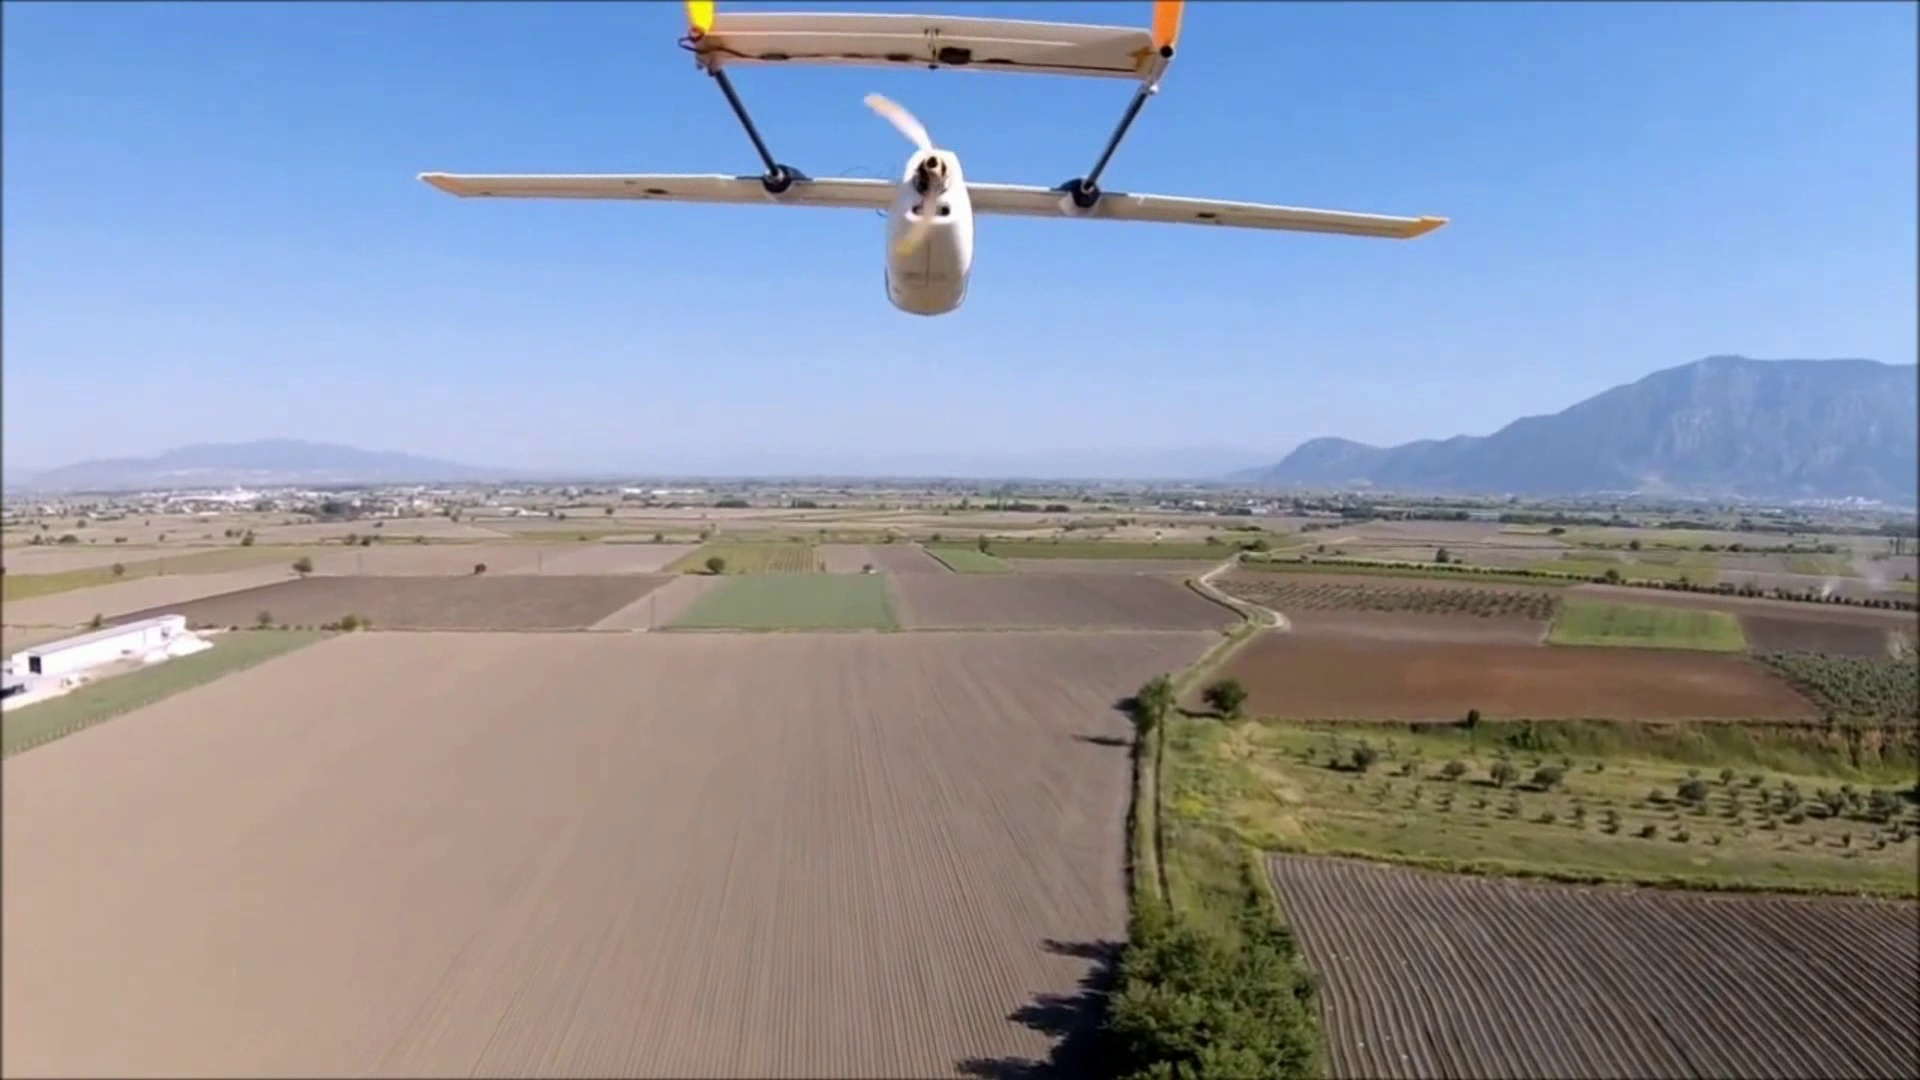airplane: (418, 7, 1447, 316)
